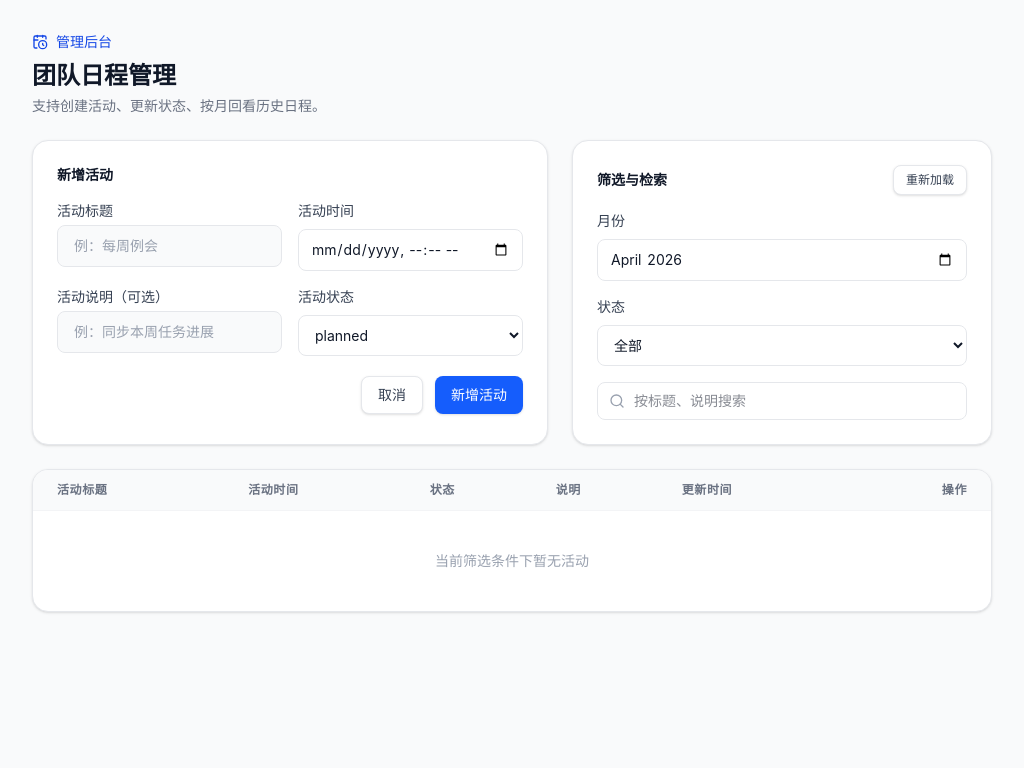
Test: AdminEventsPage › creates a new event from the admin form
This screenshot has width=1024, height=768.
Type "训练营答疑" into the field labelled "活动标题". click: (170, 246)
box: [57,225,282,267]
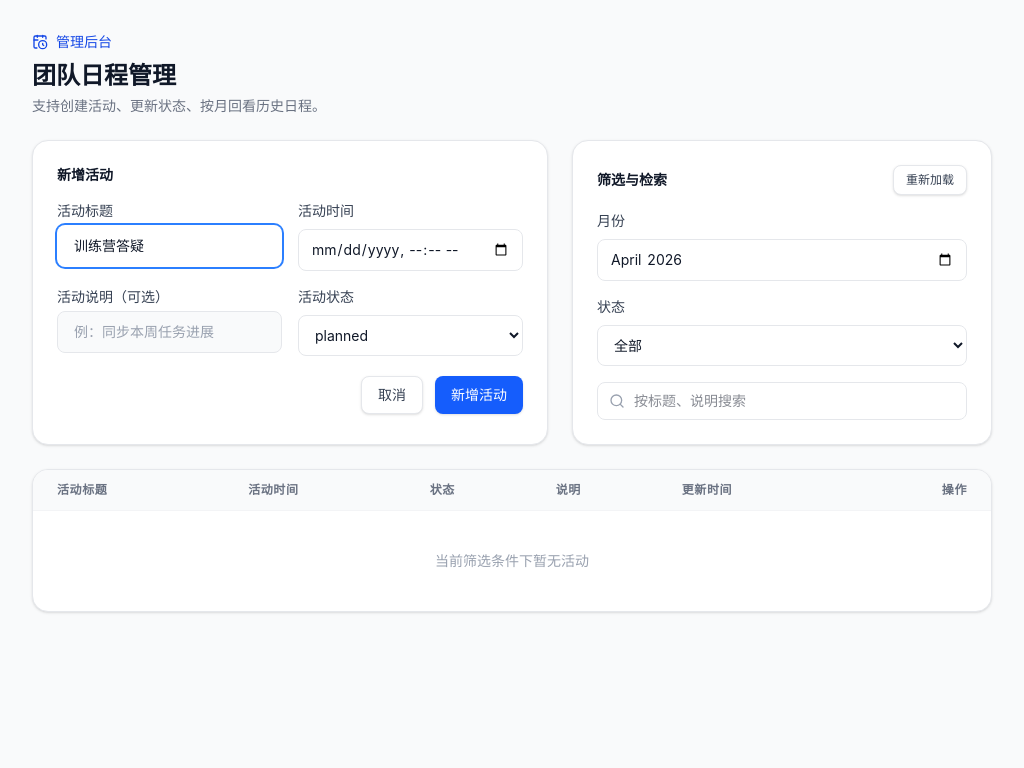
Type "第一次集中答疑" into the field labelled "活动说明（可选）". click: (170, 332)
box: [57,311,282,353]
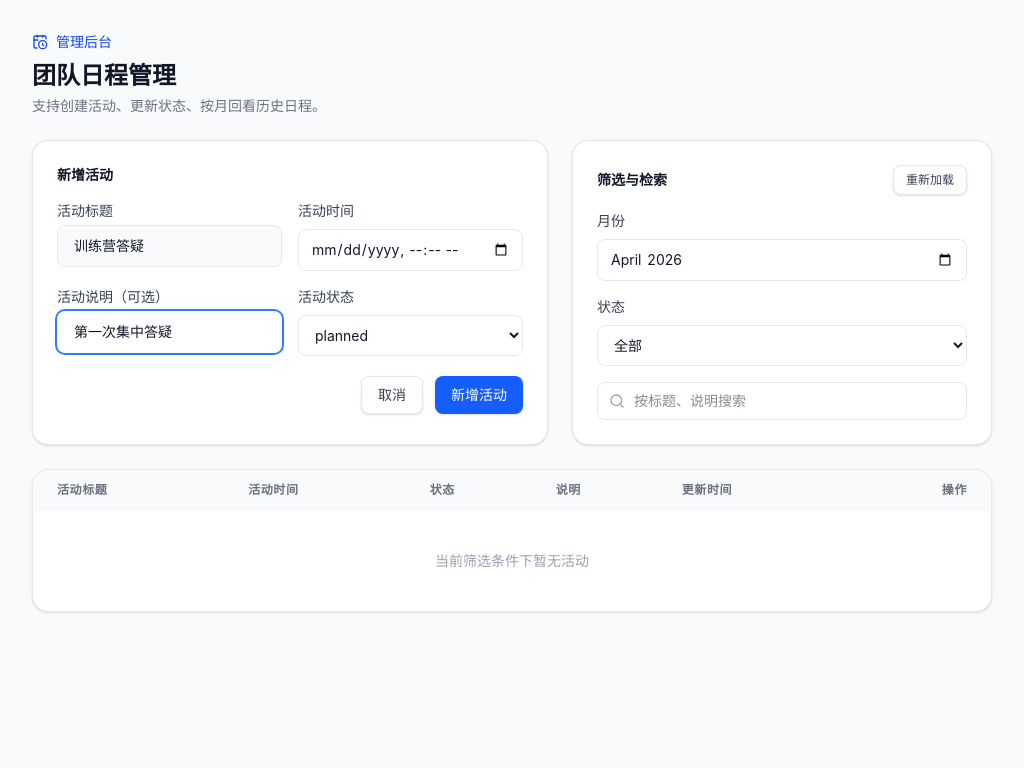
Type "2026-05-23T18:00" into the field labelled "活动时间". click: (410, 250)
box: [298,229,523,271]
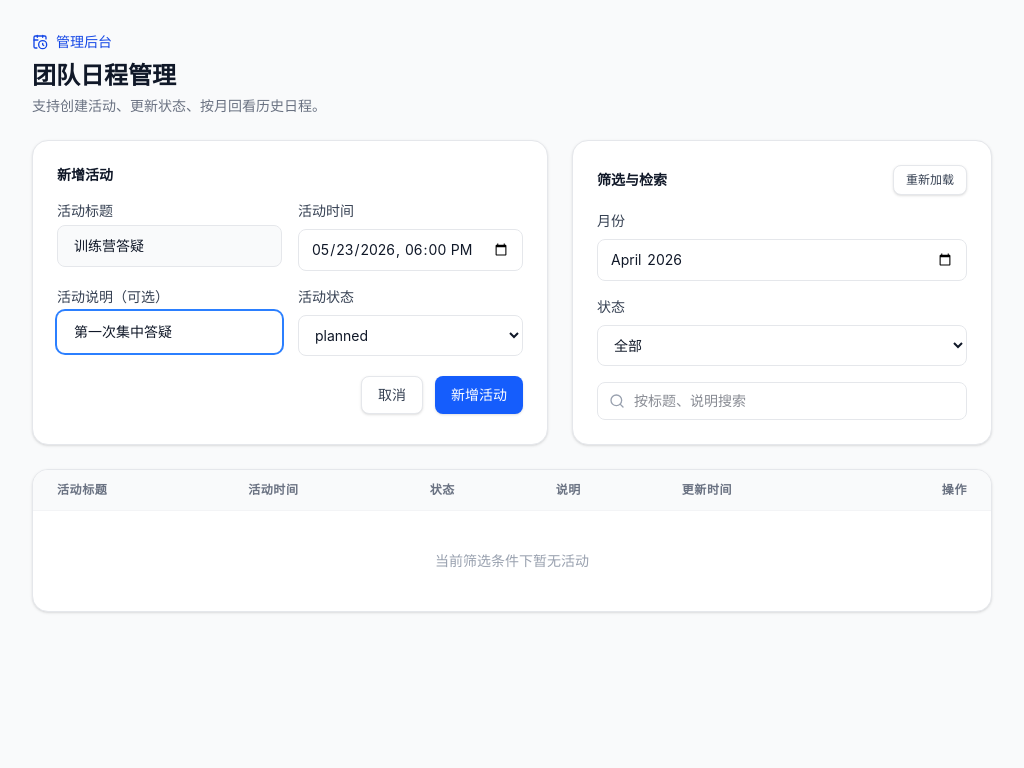
Click the button "新增活动". click: (479, 395)
box: [435,376,523,414]
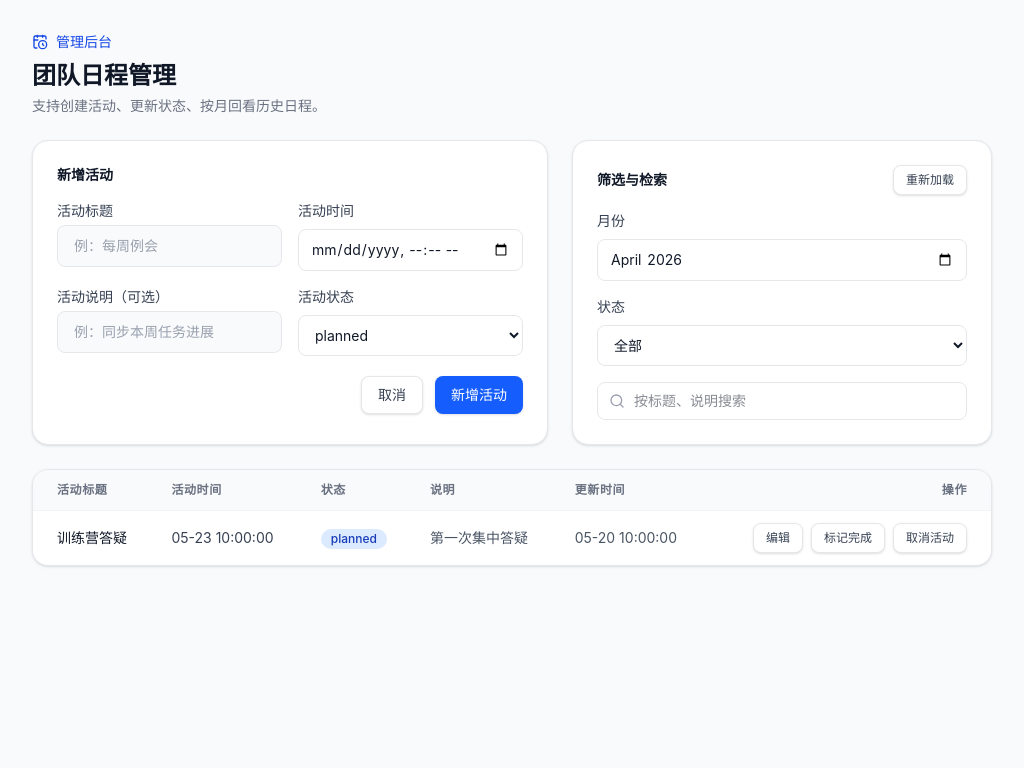
Result: the text "训练营答疑" is shown at [57,529,127,546]
